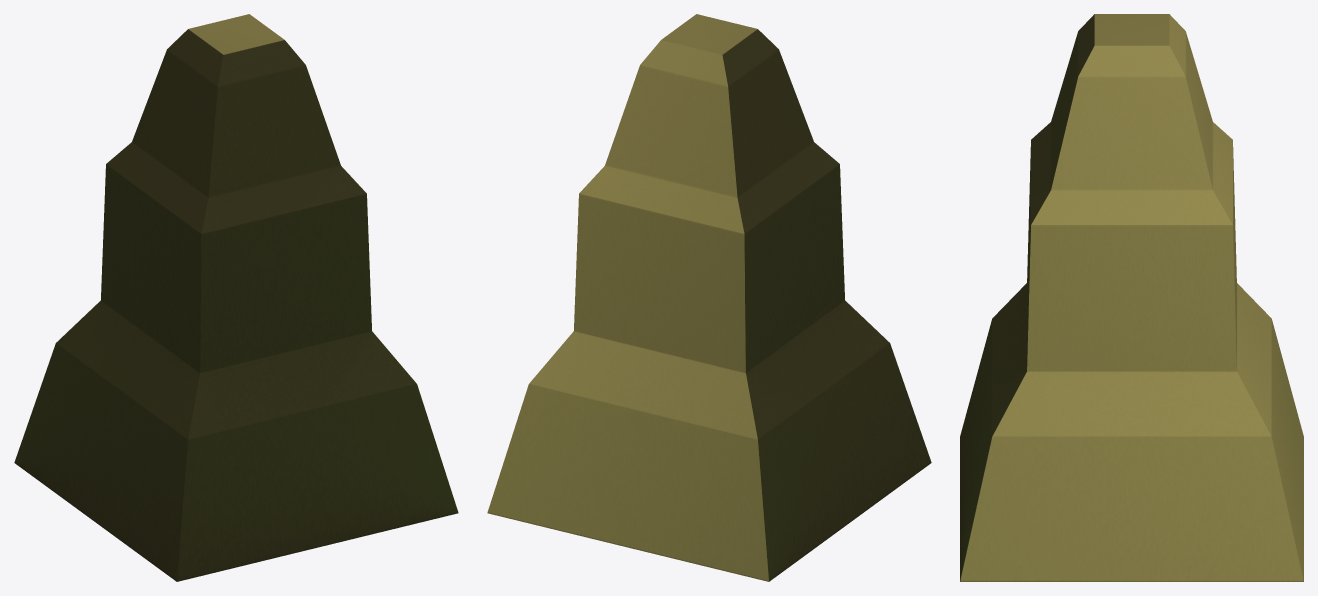
File: child1.gltf
3 views of the same model, side by side, from view 1: azimuth 30°, elevation 25°; view 2: azimuth 150°, elevation 25°; view 3: azimuth 270°, elevation 25° (orthographic). The views are drawn at different scales.
Visible parts, largest first — view 1: Cube.004; view 2: Cube.004; view 3: Cube.004.
Part boxes in pixels (x1,y1,x2,y2): Cube.004: (14,14,458,581); Cube.004: (487,14,931,581); Cube.004: (960,14,1303,581).
Size of the model in its own units: 1.4 by 2.16 by 1.4.
1 material, 1 textured.
